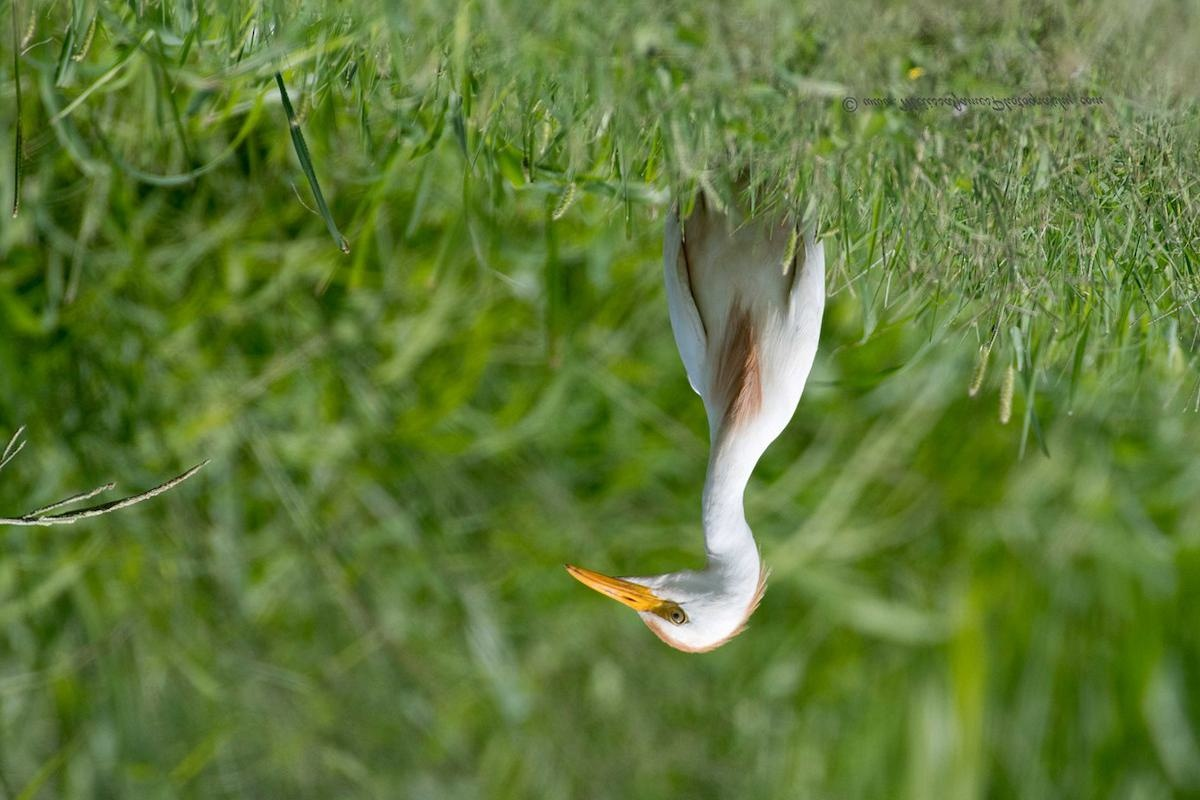egret: (559, 169, 867, 671)
